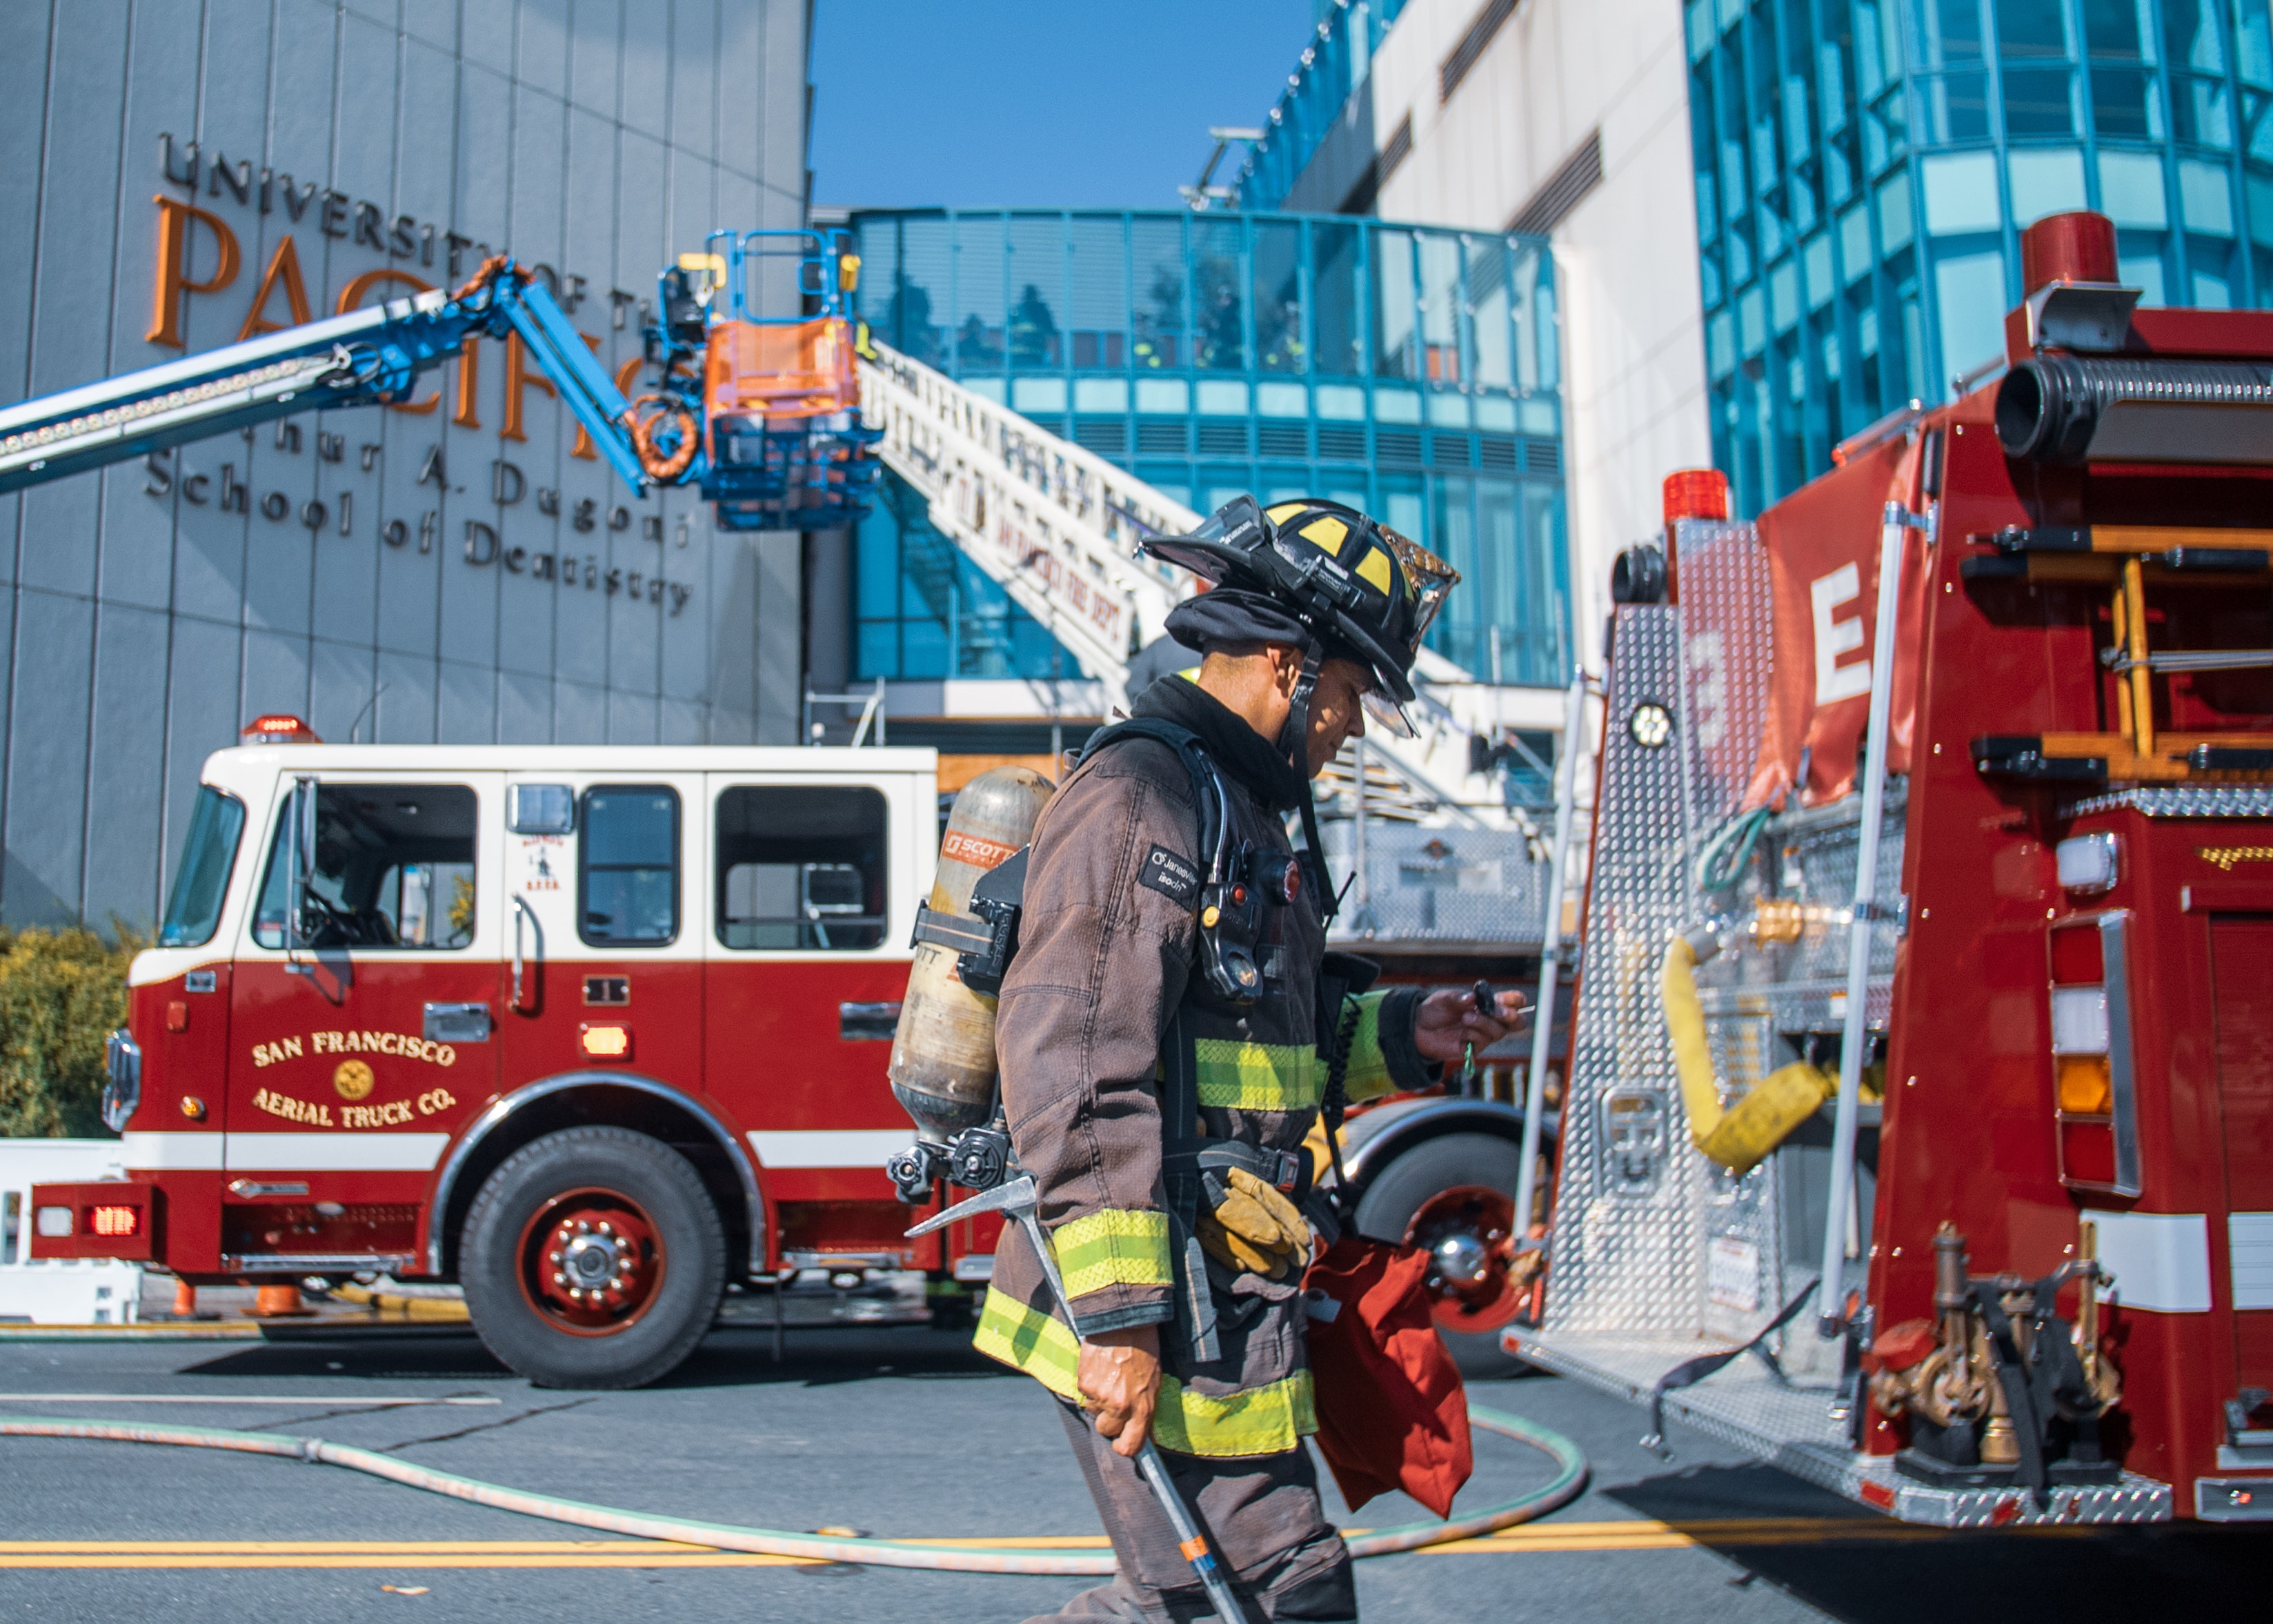emergent: (917, 499, 1479, 1624)
